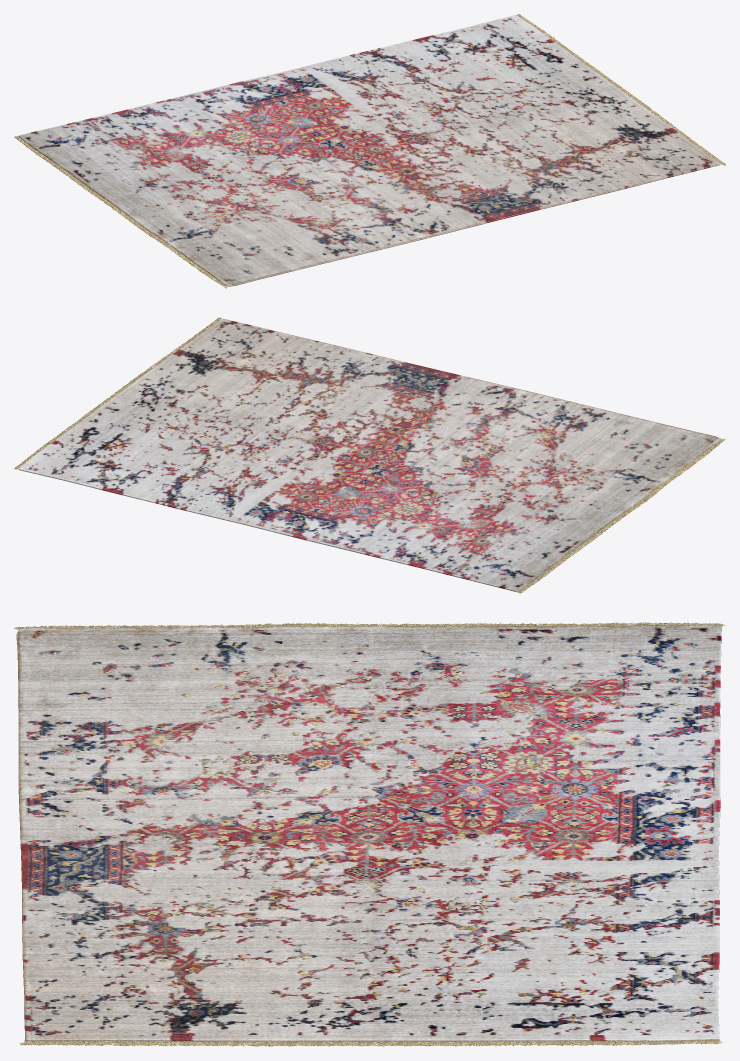
The model's file is bhadoi-rug.glb.
3 renders of one model, top to bottom at view 1: azimuth 30°, elevation 25°; view 2: azimuth 150°, elevation 25°; view 3: azimuth 270°, elevation 25°, orthographic. The views are drawn at different scales.
Parts seen in each view (by area): view 1: carpet_0, frange1_1, frange2_2; view 2: carpet_0, frange1_1, frange2_2; view 3: carpet_0, frange2_2, frange1_1.
Boxes of the visible parts, x1,y1,x2,y2 form: carpet_0: [18, 15, 720, 286]; frange1_1: [14, 136, 227, 288]; frange2_2: [516, 14, 725, 165]; carpet_0: [18, 318, 720, 591]; frange1_1: [517, 438, 725, 593]; frange2_2: [14, 317, 221, 469]; carpet_0: [16, 625, 721, 1041]; frange2_2: [19, 1039, 722, 1046]; frange1_1: [14, 622, 725, 629].
Bounding box in the file's own units: 2.41 × 0.0137 × 1.72.
Materials: 3 (2 with a texture image).
